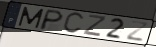2: (104, 18, 126, 41)
C: (61, 12, 85, 35)
M: (17, 6, 45, 30)
P: (38, 9, 65, 31)
Z: (124, 19, 150, 43), (82, 14, 107, 38)
